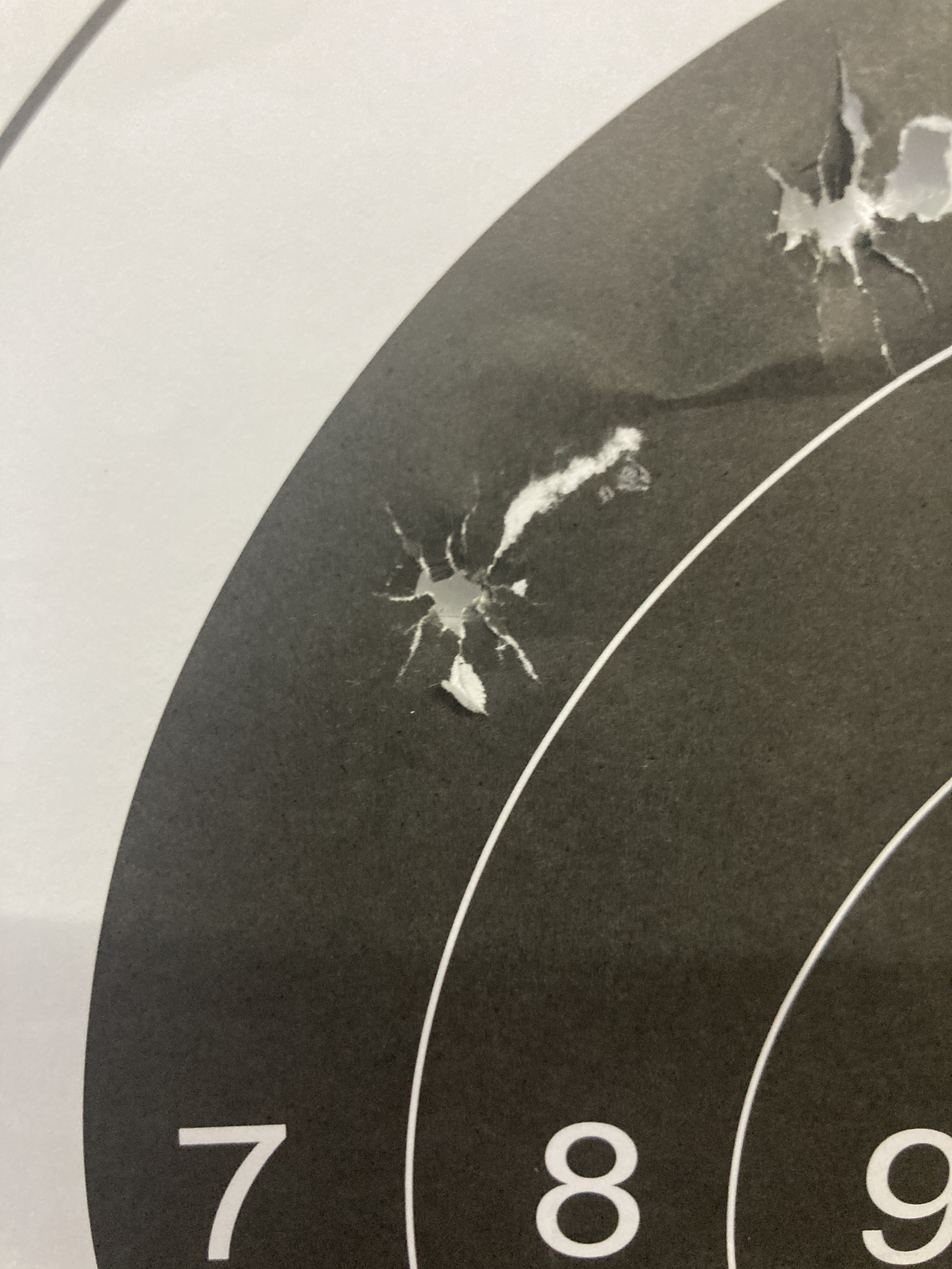hole: (730, 54, 952, 327), (400, 510, 560, 674)
